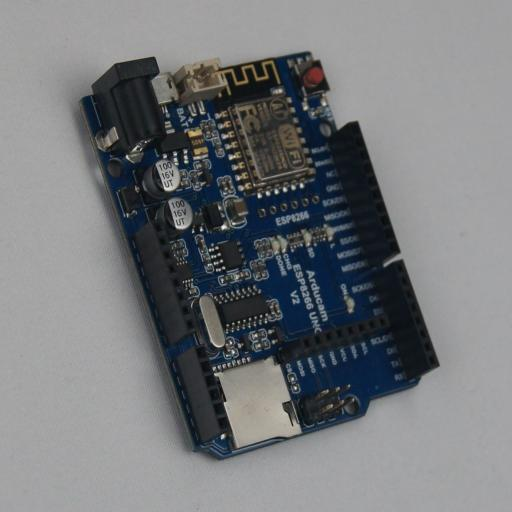Arduino Uno Camera Shield: (76, 51, 440, 460)
